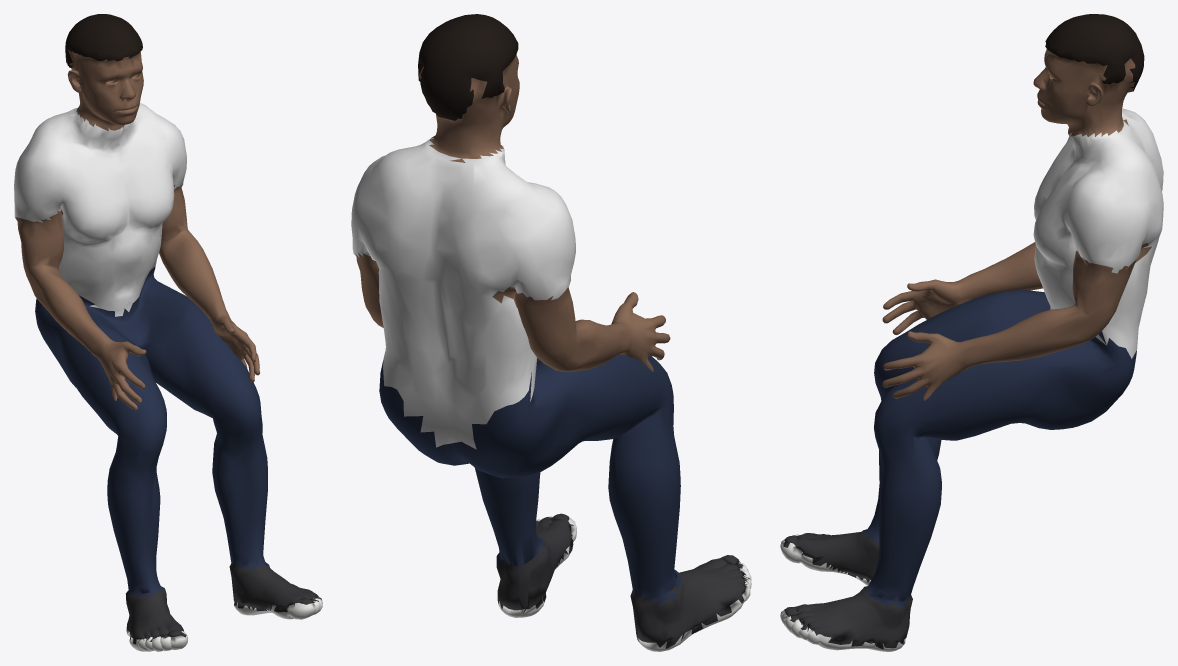
The model's file is man.glb.
3 views of the same model, side by side, from view 1: azimuth 30°, elevation 25°; view 2: azimuth 150°, elevation 25°; view 3: azimuth 270°, elevation 25° (orthographic). The views are drawn at different scales.
Visible parts, largest first — view 1: SeatedMan; view 2: SeatedMan; view 3: SeatedMan.
Part boxes in pixels (x1,y1,x2,y2): SeatedMan: [14, 14, 322, 651]; SeatedMan: [351, 14, 751, 651]; SeatedMan: [780, 14, 1163, 651].
Size of the model in its own units: 0.4905 by 1.39 by 0.8002.
